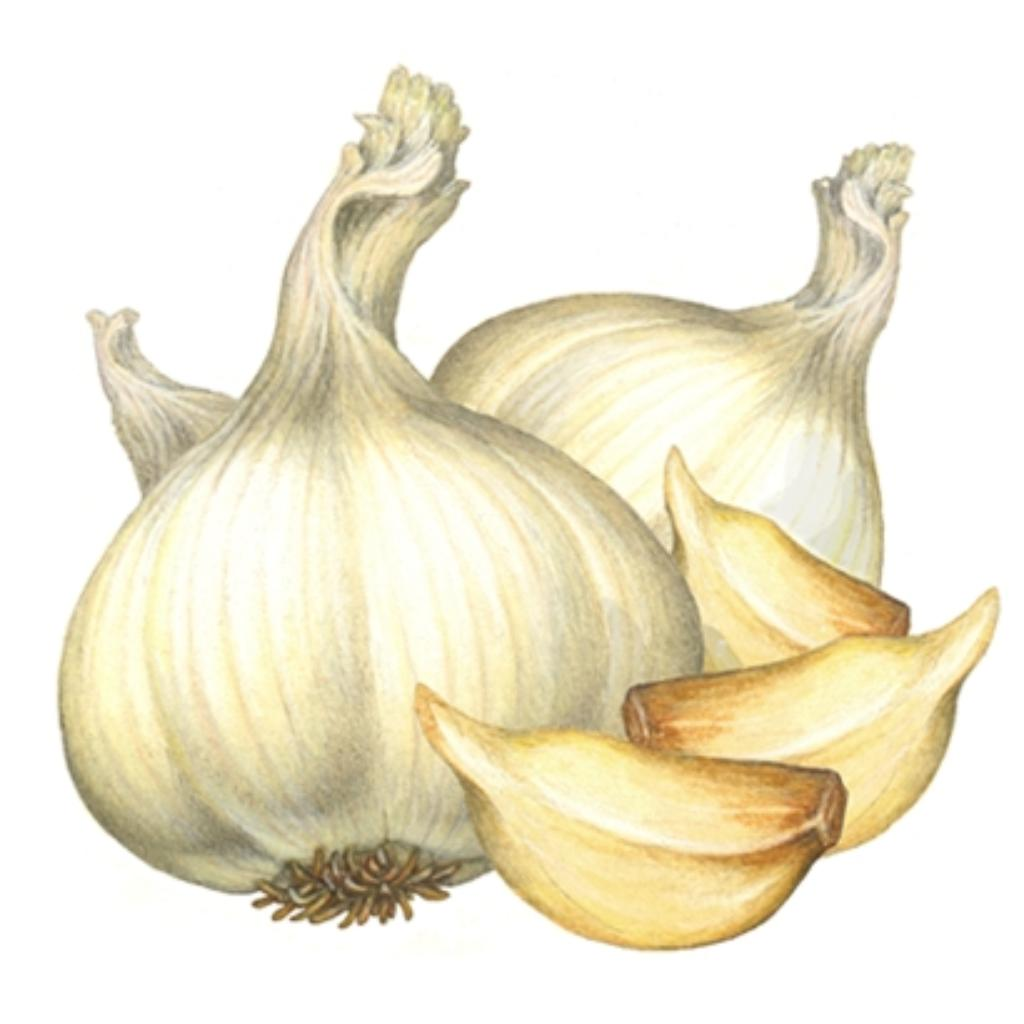garlic: (57, 66, 697, 920), (430, 141, 907, 578), (412, 683, 842, 943), (622, 585, 994, 845), (662, 443, 904, 660)
